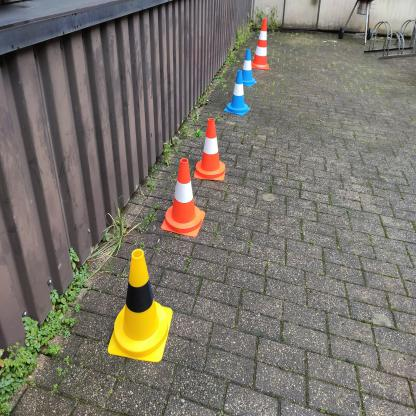Cones_big: (253, 15, 273, 70)
Cones_small_blue: (223, 64, 257, 121), (239, 45, 266, 88)
Cones_small_orange: (158, 156, 214, 254), (193, 110, 234, 192)
Cones_small_yellow: (105, 236, 178, 371)
